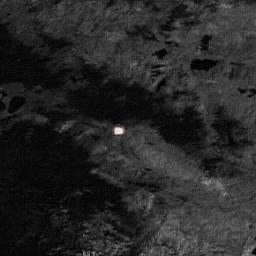Target: (113, 125, 126, 136)
